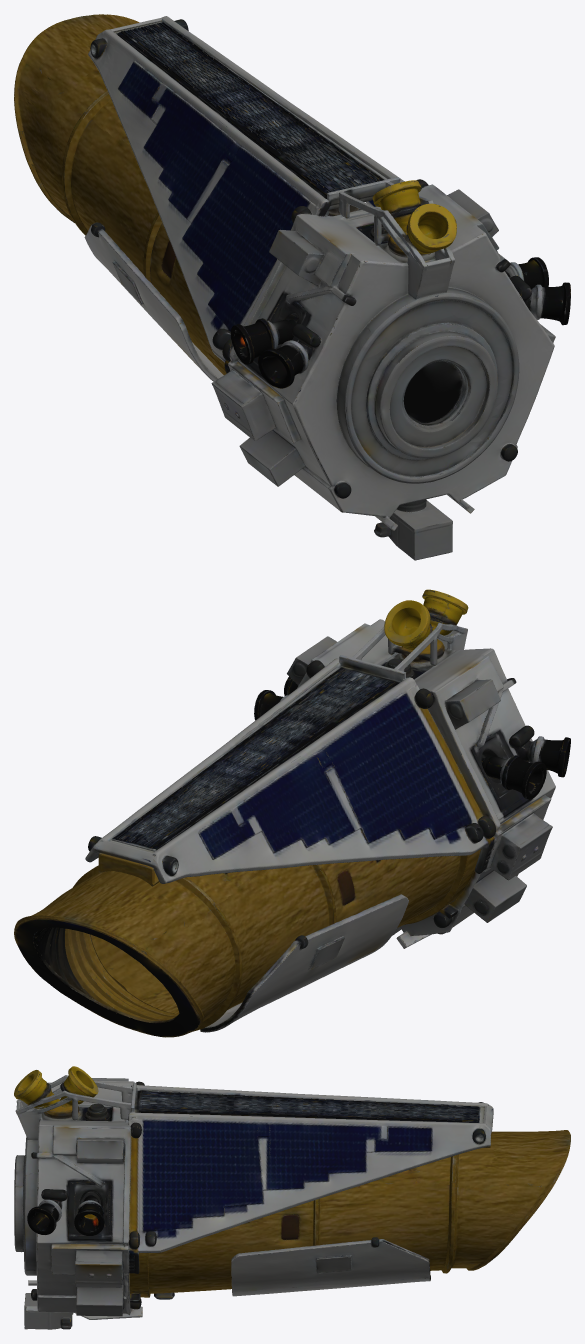
File: kepler.glb
3 renders of one model, top to bottom at view 1: azimuth 30°, elevation 25°; view 2: azimuth 150°, elevation 25°; view 3: azimuth 270°, elevation 25°, orthographic. The views are drawn at different scales.
Visible parts, largest first — view 1: tripo_node_5f08ee13-af66-48f1-ac13-905c4b4c339d; view 2: tripo_node_5f08ee13-af66-48f1-ac13-905c4b4c339d; view 3: tripo_node_5f08ee13-af66-48f1-ac13-905c4b4c339d.
Boxes of the visible parts, left/top/right/bottom form: tripo_node_5f08ee13-af66-48f1-ac13-905c4b4c339d: left=14, top=14, right=570, bottom=560; tripo_node_5f08ee13-af66-48f1-ac13-905c4b4c339d: left=14, top=589, right=570, bottom=1037; tripo_node_5f08ee13-af66-48f1-ac13-905c4b4c339d: left=14, top=1066, right=570, bottom=1329.
Size of the model in its own units: 0.467 by 0.5052 by 1.
Materials: 1 (1 with a texture image).
